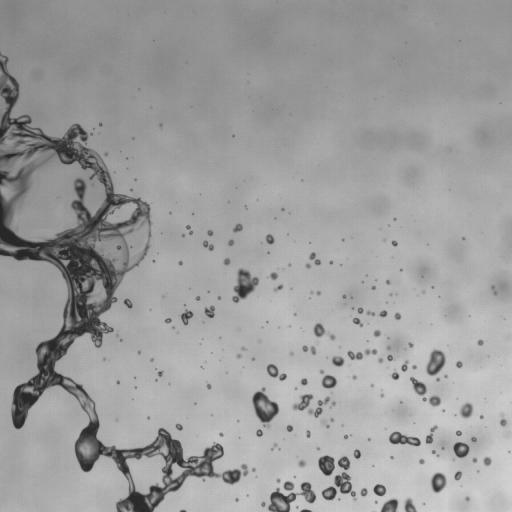droplet: (321, 456, 356, 500), (268, 481, 316, 511), (252, 387, 279, 427), (232, 268, 259, 302), (426, 349, 445, 375), (318, 455, 335, 475), (430, 472, 446, 492), (453, 442, 469, 457), (380, 498, 398, 511), (321, 374, 337, 388), (459, 402, 473, 418), (180, 309, 193, 324), (373, 484, 386, 496), (404, 498, 416, 511), (332, 356, 344, 366), (204, 306, 214, 317), (203, 240, 213, 250), (265, 234, 274, 244), (352, 317, 362, 326), (500, 415, 507, 427), (390, 370, 399, 379), (401, 360, 408, 371), (233, 224, 242, 232), (124, 299, 132, 308), (483, 456, 491, 465), (269, 272, 277, 280), (353, 449, 360, 458), (454, 471, 461, 480), (274, 284, 282, 291), (373, 329, 380, 337), (298, 460, 306, 467), (360, 488, 367, 496), (223, 258, 230, 265), (300, 378, 307, 385), (175, 423, 182, 430), (379, 310, 387, 316), (394, 312, 400, 319), (256, 429, 262, 436), (207, 230, 213, 236), (357, 307, 363, 313), (477, 339, 483, 345), (456, 361, 462, 367), (287, 425, 293, 431), (366, 311, 374, 315), (228, 239, 233, 245), (392, 240, 397, 246), (165, 318, 171, 323), (387, 355, 393, 360), (306, 430, 310, 437), (456, 430, 461, 435), (472, 457, 477, 462), (419, 459, 424, 464), (306, 263, 310, 268), (408, 342, 412, 347), (236, 354, 241, 358), (378, 358, 383, 362), (412, 365, 417, 369), (158, 371, 162, 376), (207, 384, 211, 389), (331, 401, 335, 406), (471, 437, 476, 441), (261, 501, 265, 506), (178, 261, 182, 265), (316, 291, 320, 295), (195, 296, 199, 300), (352, 375, 356, 379), (276, 479, 280, 483), (465, 496, 469, 500), (386, 280, 389, 284), (241, 347, 245, 350), (320, 370, 324, 373), (219, 433, 223, 436), (344, 435, 348, 438), (372, 286, 375, 289), (342, 295, 345, 298), (480, 415, 483, 418), (235, 498, 238, 501), (104, 153, 107, 155), (130, 188, 132, 191), (329, 261, 332, 263), (387, 346, 389, 349), (252, 357, 254, 360), (444, 375, 447, 377), (436, 378, 439, 380), (116, 381, 119, 383), (380, 394, 383, 396), (252, 468, 255, 470), (99, 123, 101, 125), (37, 176, 39, 178), (182, 234, 184, 236), (138, 351, 140, 353), (290, 352, 292, 354), (331, 419, 333, 421), (433, 451, 435, 453), (391, 456, 393, 458)
ligament: (0, 52, 247, 511), (410, 377, 441, 406), (388, 431, 420, 446), (308, 397, 330, 417), (313, 323, 335, 340), (292, 394, 313, 410), (347, 348, 377, 359), (266, 364, 286, 380), (425, 425, 437, 443), (309, 252, 320, 265), (302, 345, 316, 354), (322, 419, 329, 427), (186, 225, 192, 234), (491, 286, 497, 294), (300, 508, 311, 511), (271, 443, 276, 449), (180, 509, 185, 511)
